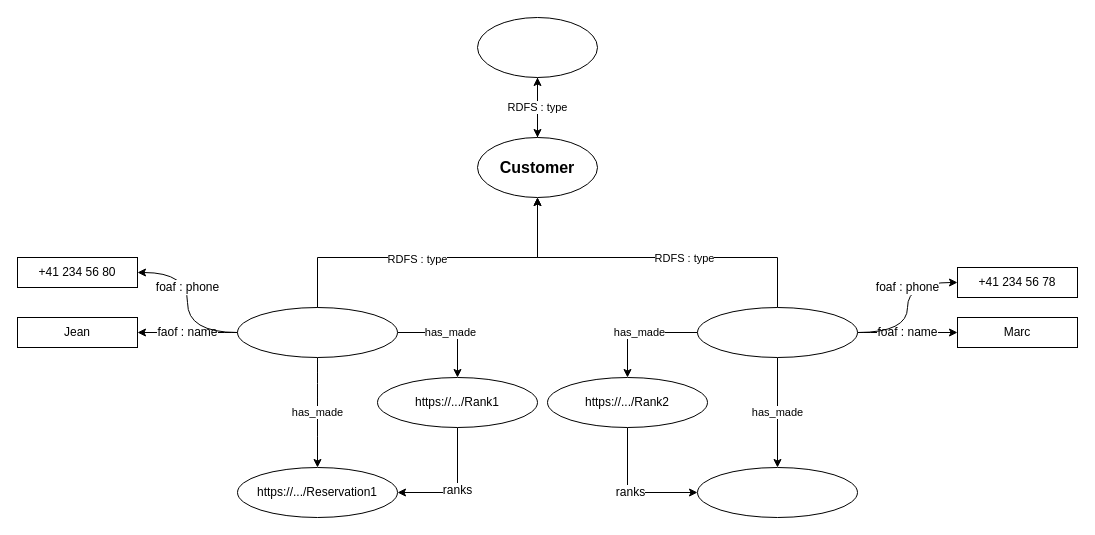
Image size: 1095x535. Some labels were removed from this diagram. The centre of each missing label's shape, as x and y in pixels:
"dbo : Person" goes at [537,47].
"https://.../Jean" goes at [317,332].
"https://.../Marc" goes at [777,332].
"https://.../Reservation2" goes at [777,492].
